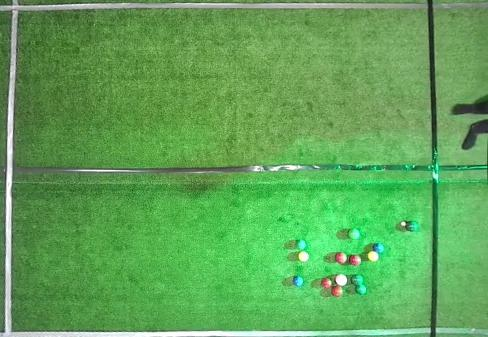blue: (293, 276, 304, 287), (374, 243, 384, 253)
green: (348, 228, 360, 239), (406, 221, 418, 232), (356, 284, 367, 295), (352, 274, 363, 285), (296, 239, 307, 250)
red: (335, 274, 347, 286), (335, 252, 347, 264), (331, 286, 343, 297), (350, 255, 362, 266), (321, 278, 332, 289)
vline: (427, 0, 487, 336), (0, 0, 20, 336)
white: (401, 221, 406, 226)
yellow: (298, 251, 309, 262), (368, 251, 379, 262)
